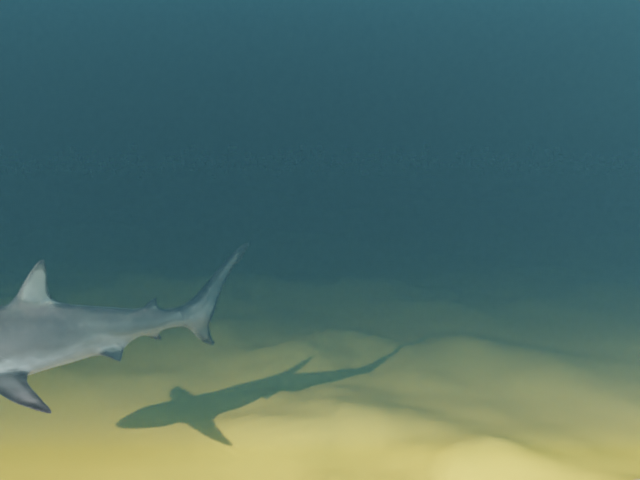Carribean Shark.001: (0, 242, 249, 413)
